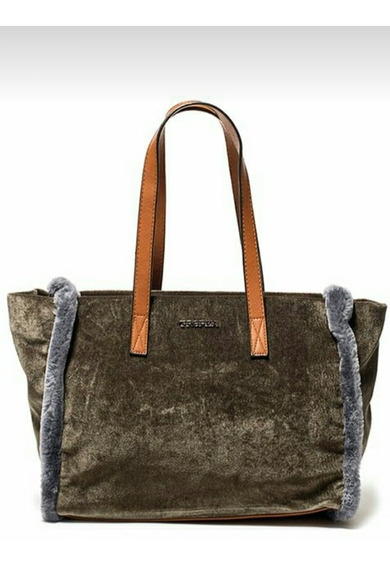cartera: (9, 99, 389, 528)
